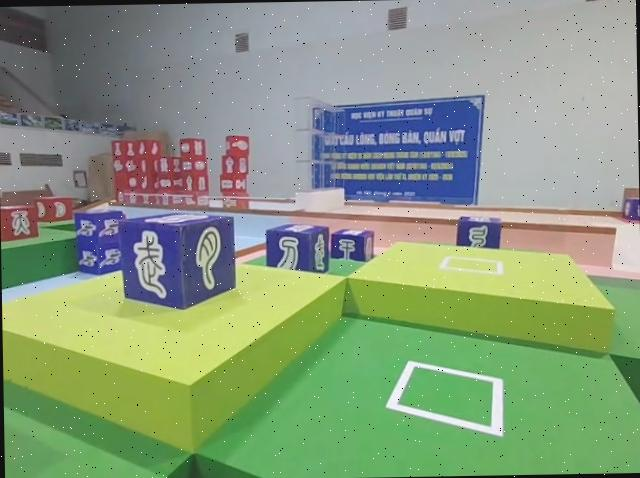R2 Fake Blue: (116, 213, 235, 308), (264, 219, 330, 273), (331, 223, 374, 262), (454, 212, 503, 246)
